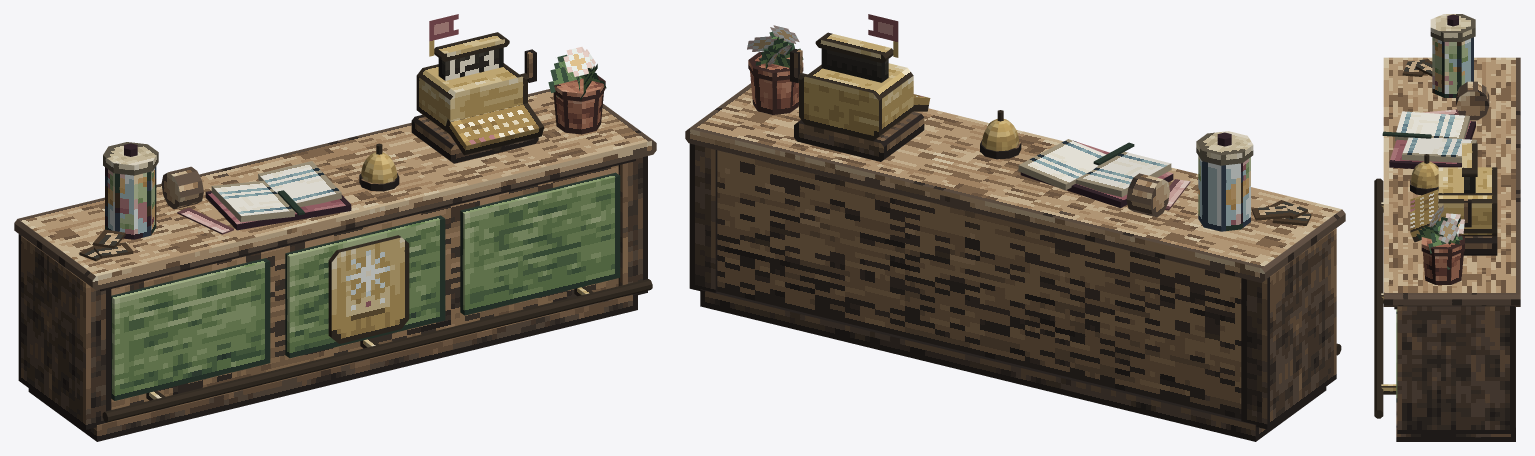
The model's file is counter.glb.
3 views of the same model, side by side, from view 1: azimuth 30°, elevation 25°; view 2: azimuth 150°, elevation 25°; view 3: azimuth 270°, elevation 25° (orthographic). The views are drawn at different scales.
Visible parts, largest first — view 1: top, panel_2, panel_0, post_l, body, plinth, panel_1, crest, rail, till_body, post_r, jar (+15 smaller); view 2: body, top, post_l, plinth, till_body, post_r, jar, till_drawer, ledger_page_r, ledger_page_l, pot, spool (+7 smaller); view 3: top, post_r, till_body, rail, jar, ledger_page_l, ledger_page_r, plinth, pot, spool, jar_lid, till_keys (+17 smaller).
Boxes of the visible parts, left/top/right/bottom form: top: left=14, top=89, right=656, bottom=290; panel_2: left=460, top=172, right=620, bottom=315; panel_0: left=111, top=258, right=270, bottom=400; post_l: left=18, top=234, right=111, bottom=429; body: left=111, top=165, right=618, bottom=409; plinth: left=28, top=293, right=637, bottom=441; panel_1: left=285, top=215, right=445, bottom=358; crest: left=328, top=235, right=409, bottom=343; rail: left=102, top=279, right=652, bottom=422; till_body: left=416, top=63, right=527, bottom=134; post_r: left=618, top=156, right=647, bottom=296; jar: left=105, top=166, right=156, bottom=239; body: left=717, top=150, right=1241, bottom=419; top: left=685, top=83, right=1345, bottom=282; post_l: left=1241, top=228, right=1336, bottom=429; plinth: left=700, top=289, right=1326, bottom=441; till_body: left=799, top=63, right=913, bottom=140; post_r: left=689, top=143, right=717, bottom=292; jar: left=1198, top=156, right=1250, bottom=231; till_drawer: left=794, top=111, right=924, bottom=161; ledger_page_r: left=1018, top=139, right=1106, bottom=190; ledger_page_l: left=1075, top=151, right=1171, bottom=197; pot: left=750, top=71, right=798, bottom=114; spool: left=1126, top=173, right=1169, bottom=217; top: left=1383, top=57, right=1520, bottom=306; post_r: left=1397, top=306, right=1514, bottom=433; till_body: left=1438, top=167, right=1497, bottom=236; rail: left=1374, top=178, right=1383, bottom=418; jar: left=1432, top=37, right=1473, bottom=97; ledger_page_l: left=1395, top=111, right=1469, bottom=140; ledger_page_r: left=1402, top=137, right=1476, bottom=162; plinth: left=1396, top=307, right=1515, bottom=441; pot: left=1423, top=251, right=1463, bottom=284; spool: left=1456, top=81, right=1489, bottom=120; jar_lid: left=1430, top=14, right=1475, bottom=41; till_keys: left=1410, top=189, right=1438, bottom=242.
Size of the model in its own units: 58 by 29.35 by 14.96.
Materials: 2 (2 with a texture image).
